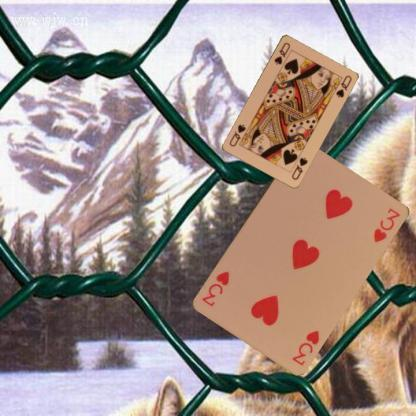3h: (289, 326, 321, 367)
Qs: (272, 39, 292, 66), (289, 154, 309, 180)
